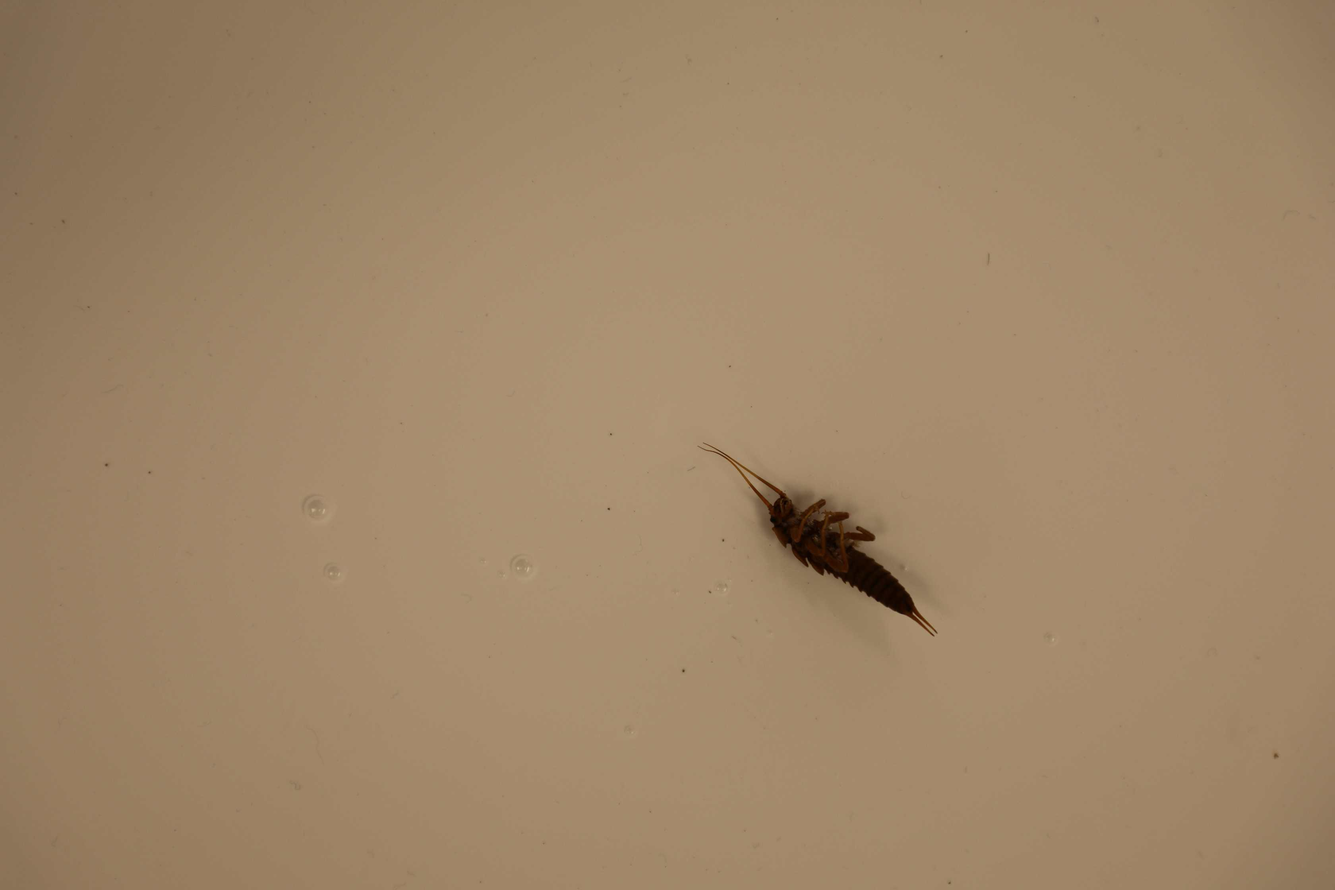Stonefly: (698, 438, 938, 646)
